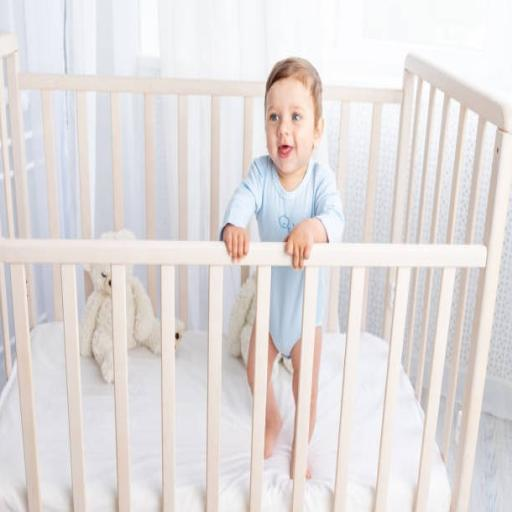baby: (221, 59, 344, 457)
crib: (0, 35, 511, 510)
